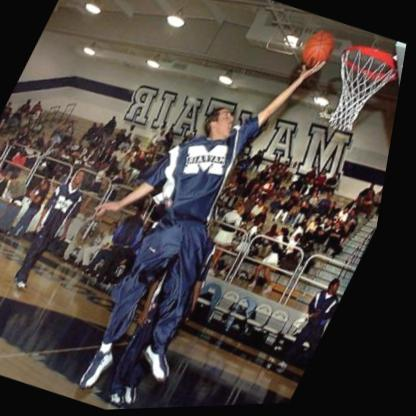basketball: (297, 29, 343, 75)
